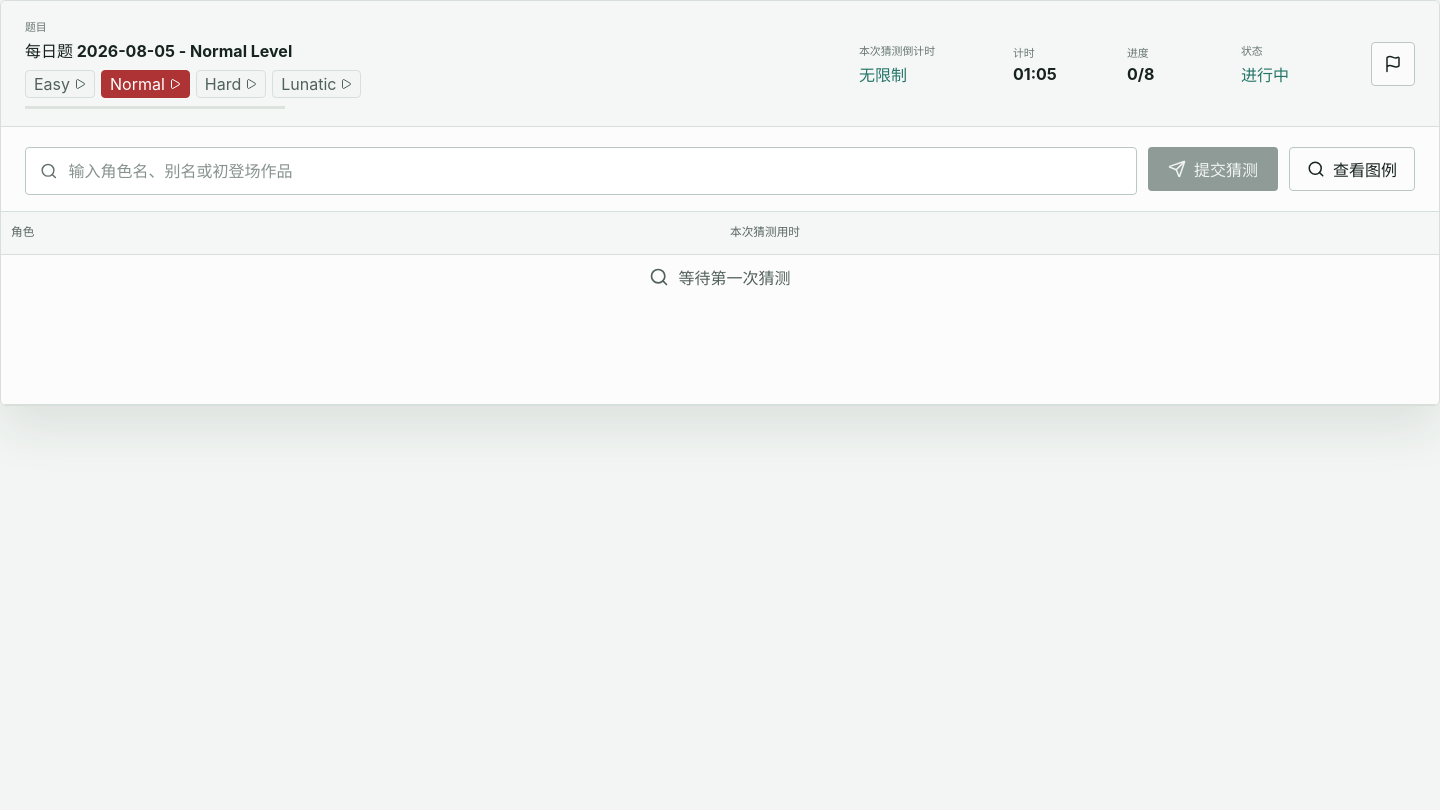
Test: SingleGamePage › shows the feedback icon legend from the guess form
Expected: the text "每日题 2026-08-05 - Normal Level" is shown, x1=25 y1=41 x2=292 y2=61
Expected: the icon with class "lucide-send" is shown, x1=1168 y1=160 x2=1186 y2=178
Click the button "查看图例" at (1352, 169), box x1=1289 y1=147 x2=1415 y2=191
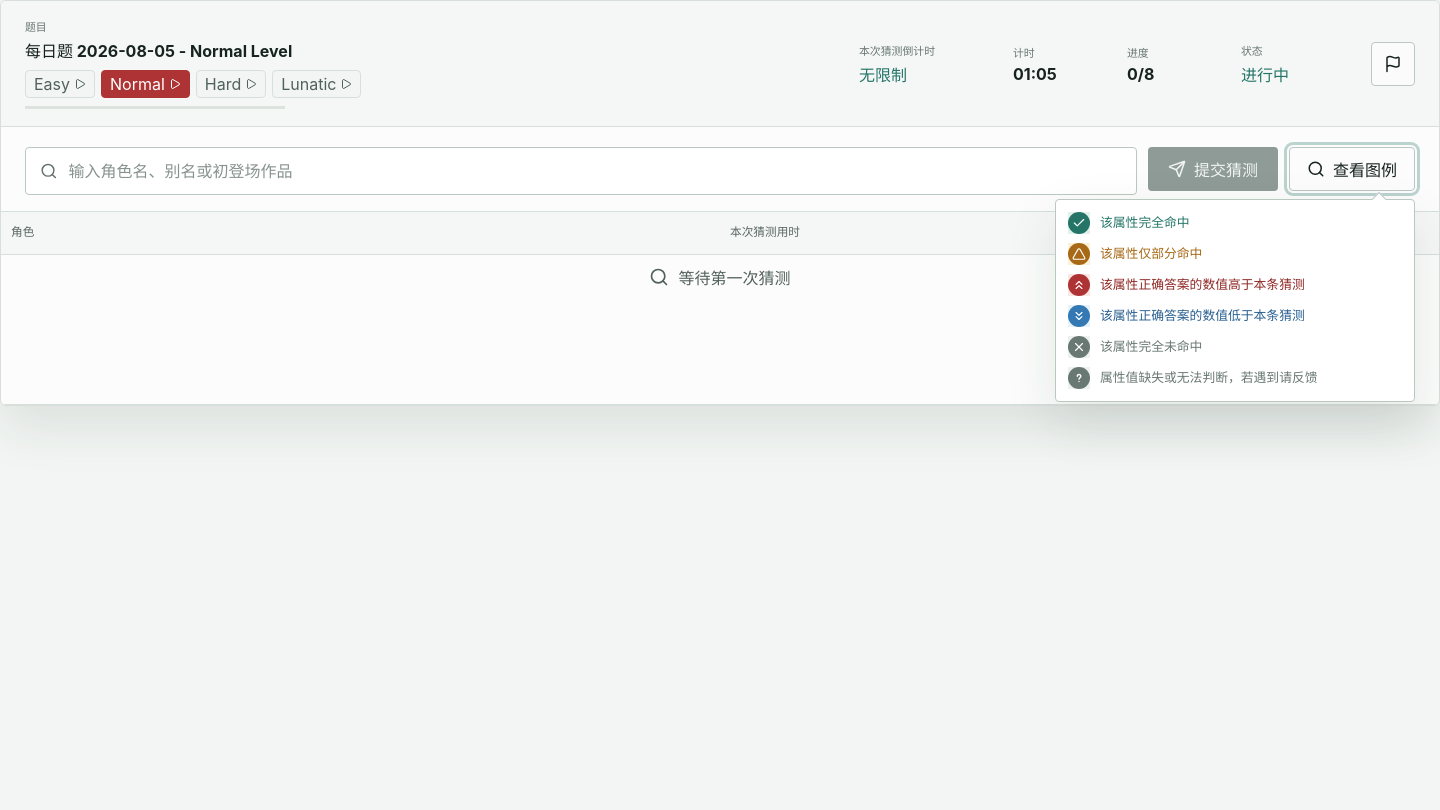
Now the tooltip is shown, box x1=1055 y1=199 x2=1415 y2=402
Now the text "该属性完全命中" is shown, box x1=1100 y1=215 x2=1190 y2=230
Now the text "该属性仅部分命中" is shown, box x1=1100 y1=246 x2=1202 y2=261
Click the element that starts with "每日题 2026-08-05 - Normal Level" at (720, 761), box x1=0 y1=0 x2=1439 y2=809
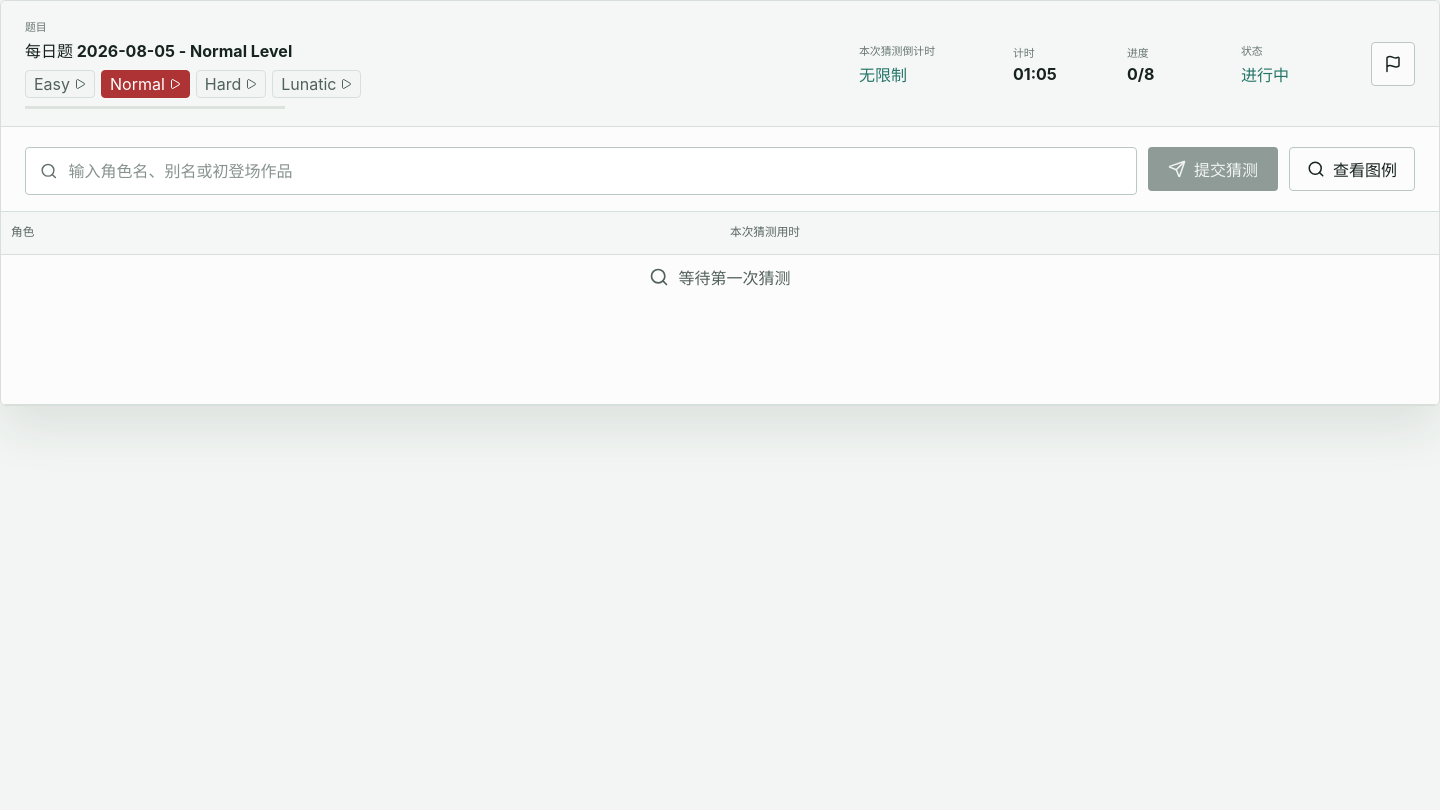
Now the tooltip "该属性完全命中 该属性仅部分命中 该属性正确答案的数值高于本条猜测 该属性正确答案的数值低于本条猜测 该属性完全未命中 属性值缺失或无法判断，若遇到请反馈" is gone
